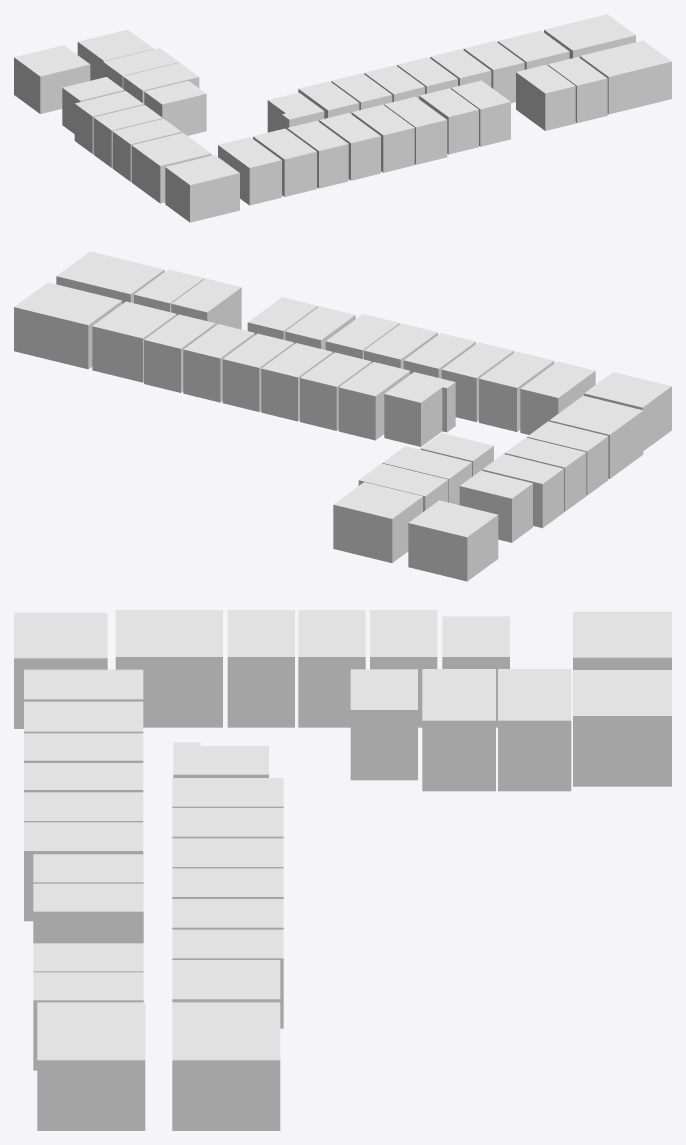
File: fix_floor2.glb
3 renders of one model, top to bottom at view 1: azimuth 30°, elevation 25°; view 2: azimuth 150°, elevation 25°; view 3: azimuth 270°, elevation 25°, orthographic. The views are drawn at different scales.
Visible parts, largest first — view 1: polySurface36, polySurface22, polySurface38, polySurface12, polySurface32, polySurface16, polySurface30, polySurface27, polySurface33, polySurface40, polySurface11, polySurface13 (+19 smaller); view 2: polySurface33, polySurface38, polySurface35, polySurface14, polySurface28, polySurface32, polySurface31, polySurface20, polySurface30, polySurface16, polySurface36, polySurface22 (+19 smaller); view 3: polySurface36, polySurface33, polySurface35, polySurface32, polySurface39, polySurface15, polySurface26, polySurface27, polySurface37, polySurface19, polySurface22, polySurface38 (+19 smaller).
Boxes of the visible parts, <box> form: polySurface36: <box>580,40,671,114</box>; polySurface22: <box>165,155,239,222</box>; polySurface38: <box>14,45,90,113</box>; polySurface12: <box>516,64,575,130</box>; polySurface32: <box>131,133,211,203</box>; polySurface16: <box>218,137,281,205</box>; polySurface30: <box>253,128,316,196</box>; polySurface27: <box>144,80,206,135</box>; polySurface33: <box>544,14,635,58</box>; polySurface40: <box>351,104,414,172</box>; polySurface11: <box>384,96,447,164</box>; polySurface13: <box>319,113,380,180</box>; polySurface33: <box>14,282,122,369</box>; polySurface38: <box>408,500,498,581</box>; polySurface35: <box>333,482,422,562</box>; polySurface14: <box>384,372,455,446</box>; polySurface28: <box>92,301,176,382</box>; polySurface32: <box>549,395,643,478</box>; polySurface31: <box>338,362,410,440</box>; polySurface20: <box>459,470,532,542</box>; polySurface30: <box>479,351,554,431</box>; polySurface16: <box>520,361,595,434</box>; polySurface36: <box>56,251,164,303</box>; polySurface22: <box>584,372,671,450</box>; polySurface36: <box>37,1002,145,1130</box>; polySurface33: <box>172,1002,280,1130</box>; polySurface35: <box>573,670,671,786</box>; polySurface32: <box>115,610,222,727</box>; polySurface39: <box>422,669,495,791</box>; polySurface15: <box>498,669,571,791</box>; polySurface26: <box>227,610,294,727</box>; polySurface27: <box>350,669,417,780</box>; polySurface37: <box>298,610,365,727</box>; polySurface19: <box>33,883,143,943</box>; polySurface22: <box>14,612,107,728</box>; polySurface38: <box>573,611,671,669</box>.
Size of the model in its own units: 18.07 by 1.32 by 11.16.
Materials: 1 (1 with a texture image).
